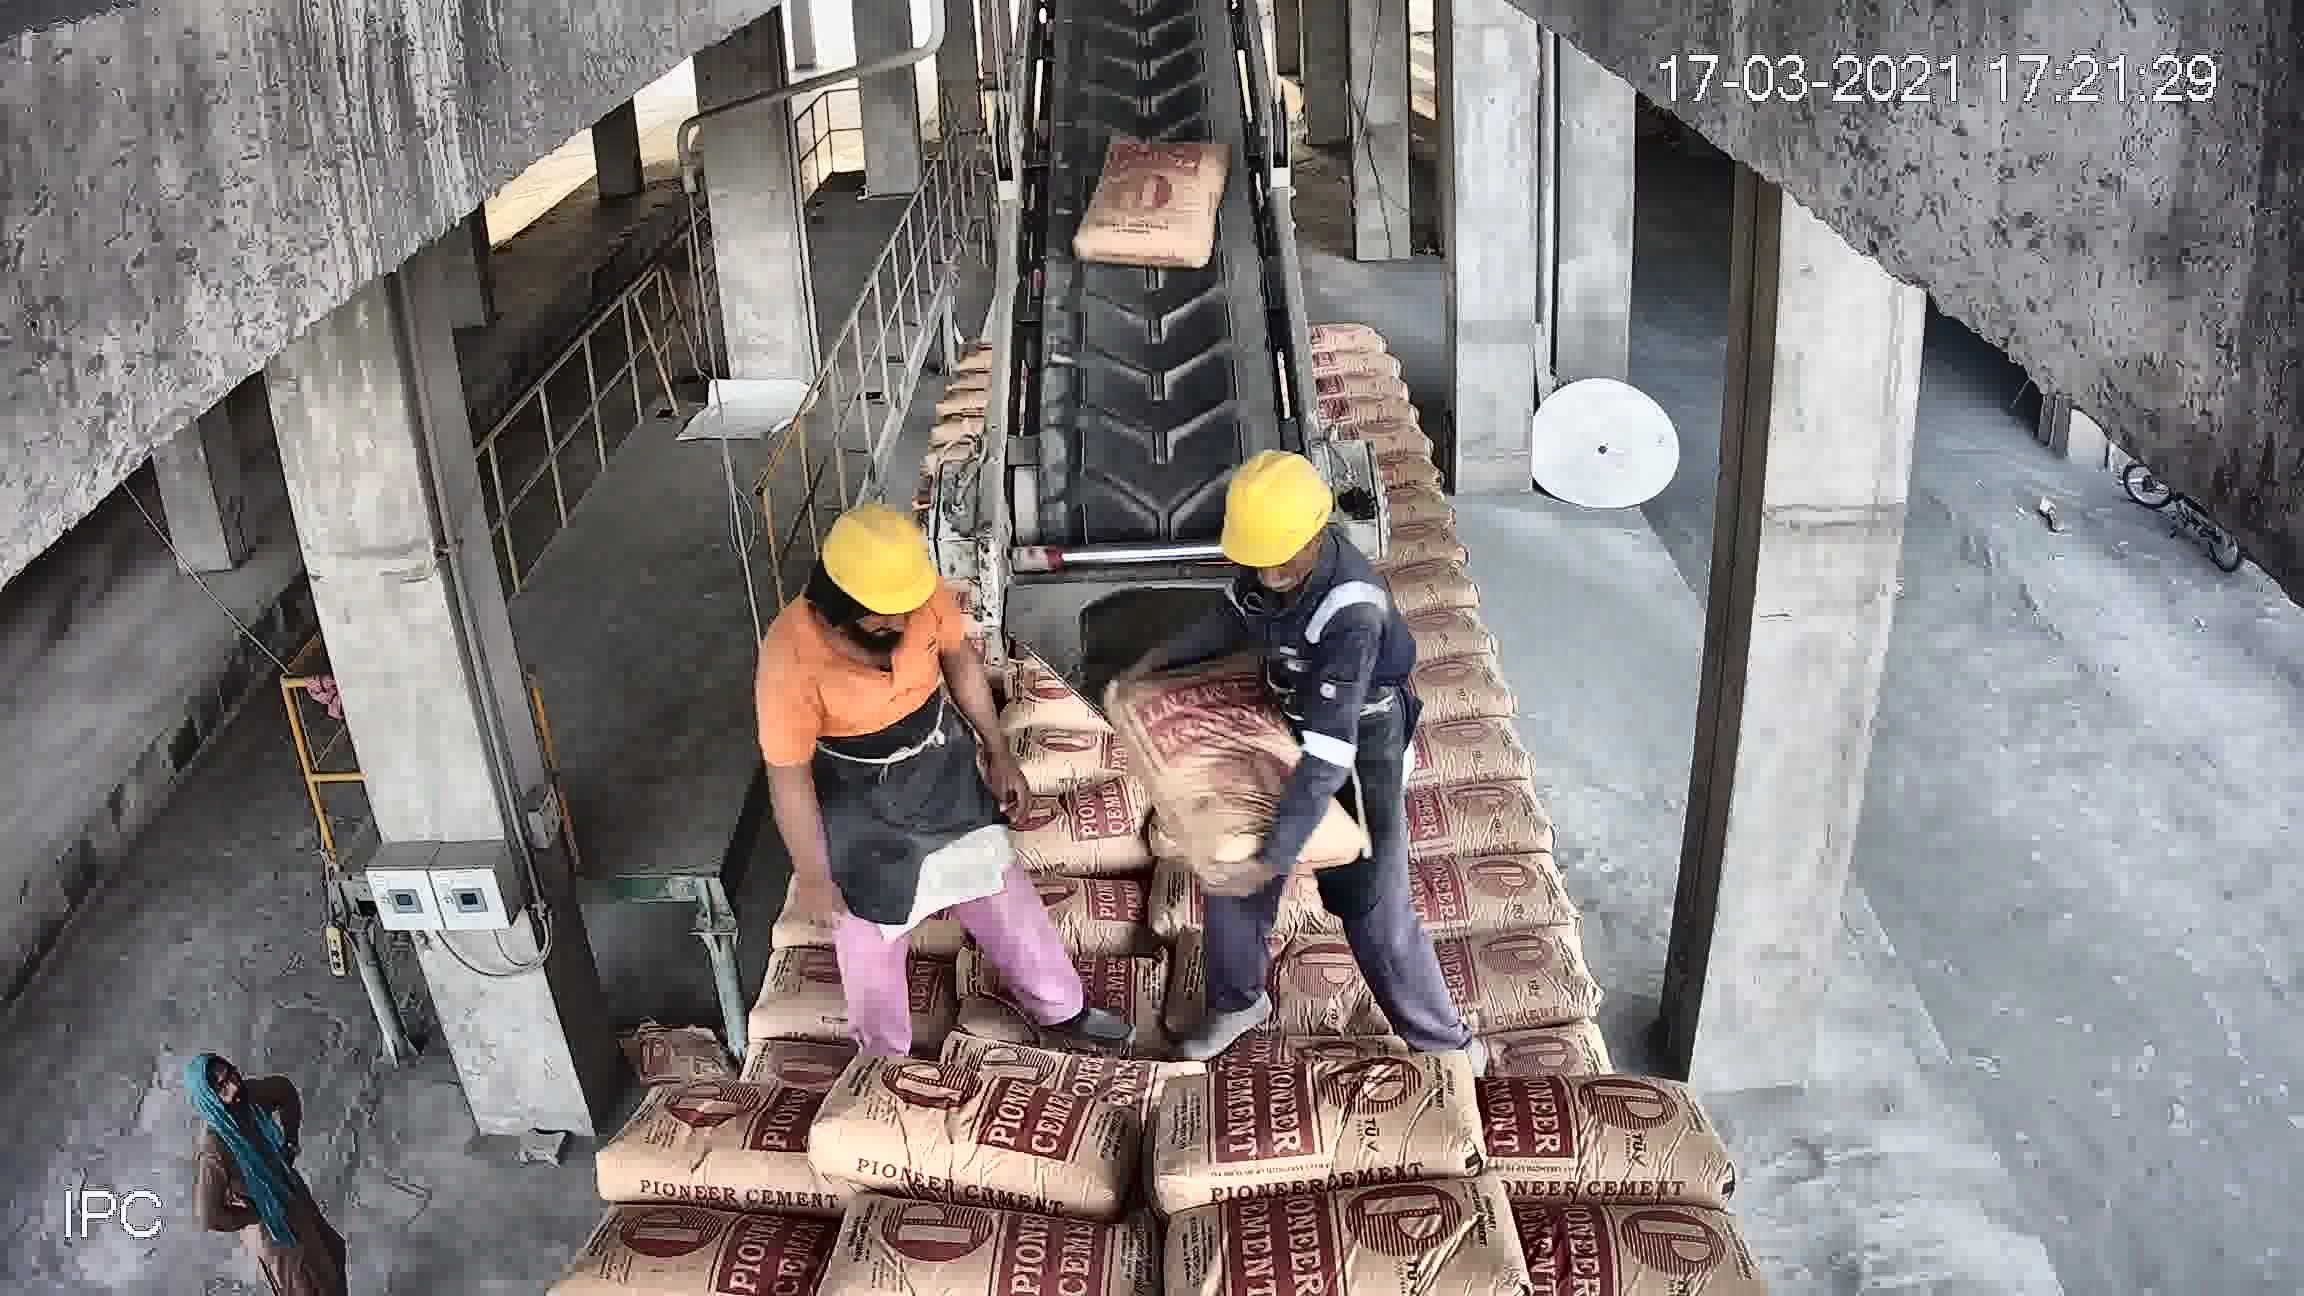bag_h: (1124, 1033, 1491, 1187), (1157, 1163, 1532, 1282), (1114, 945, 1434, 1081), (807, 1076, 1157, 1196), (891, 934, 1157, 1071), (579, 1063, 818, 1212), (793, 1192, 1166, 1285), (639, 961, 888, 1089), (1124, 720, 1399, 836), (873, 843, 1147, 949), (913, 741, 1161, 856), (1161, 836, 1434, 938), (1521, 1067, 1722, 1206), (1529, 1185, 1796, 1287), (660, 866, 915, 965), (1434, 962, 1681, 1060), (1442, 836, 1635, 961), (1364, 774, 1595, 858), (529, 1225, 836, 1285), (717, 779, 885, 859), (999, 652, 1184, 725), (1013, 699, 1198, 771), (1130, 563, 1298, 635), (1385, 698, 1537, 767), (1027, 581, 1180, 642), (999, 623, 1158, 676), (897, 495, 1032, 555), (1184, 519, 1318, 579), (1176, 609, 1305, 669), (1029, 540, 1152, 589), (916, 543, 1025, 597), (1400, 658, 1503, 715), (916, 462, 1032, 506)
belt: (1024, 5, 1283, 475)
